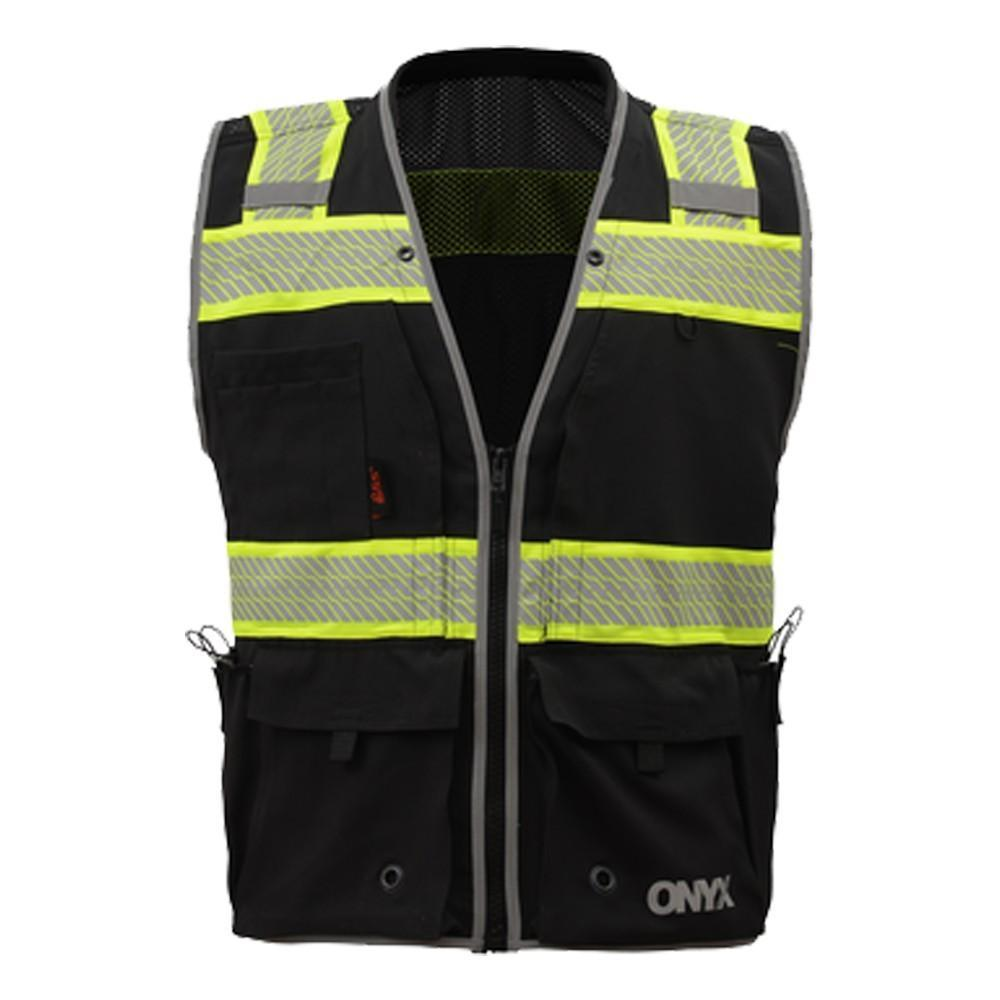vest: (187, 42, 814, 960)
